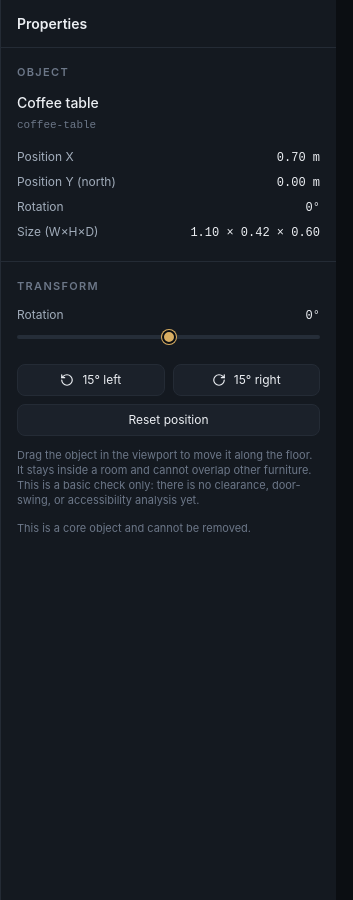
Test: PropertiesPanel › rotates a selected furniture item and lists furniture details
The image size is (353, 900).
Expected: the text "Coffee table" is shown, [17,94,99,110]
Step 1. Click the button with aria-label "Rotate right 15 degrees" → [246, 380], box [172,364,320,396]
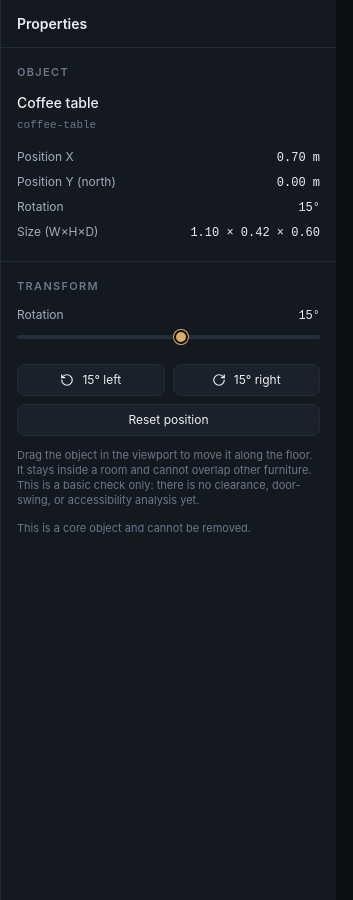
Now the text with test id "furniture-rotation" reads "15°", box [298,201,320,215]
